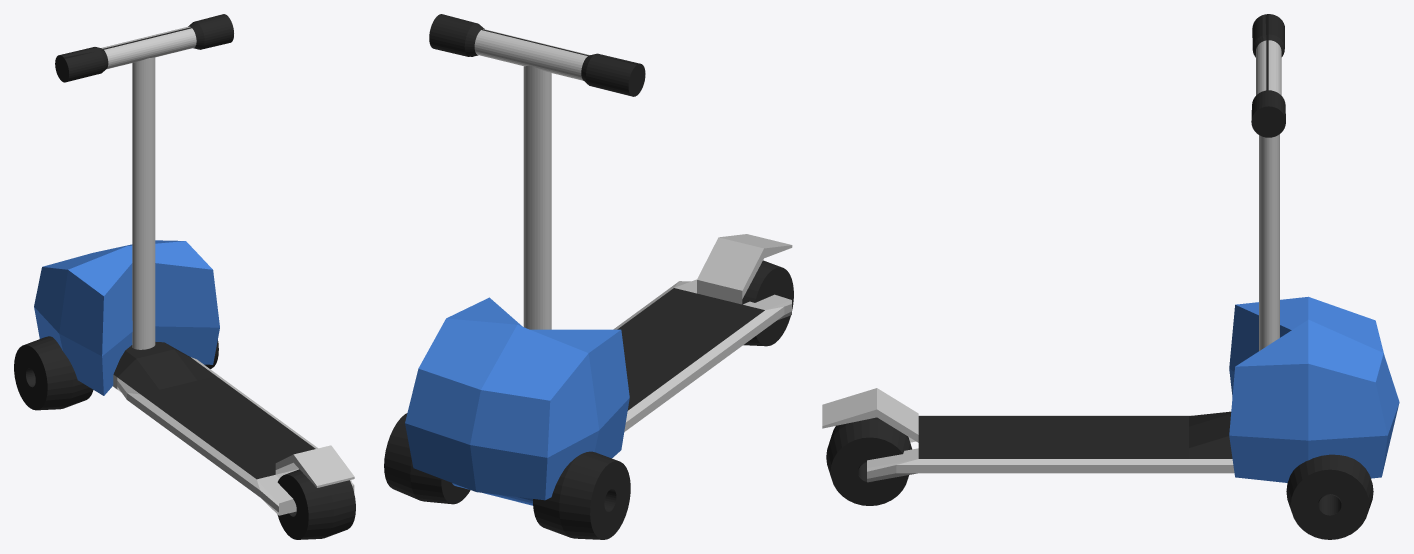
Rendered from SCOOTER.fbx.
3 renders of one model, left to right at view 1: azimuth 30°, elevation 25°; view 2: azimuth 150°, elevation 25°; view 3: azimuth 270°, elevation 25°, orthographic. The views are drawn at different scales.
Parts seen in each view (by area): view 1: Cylinder.004; view 2: Cylinder.004; view 3: Cylinder.004.
Part boxes in pixels (left/top/right/bottom): Cylinder.004: left=14, top=14, right=355, bottom=539; Cylinder.004: left=384, top=14, right=793, bottom=539; Cylinder.004: left=822, top=14, right=1399, bottom=539.
Bounding box in the file's own units: 317 × 657 × 787.
